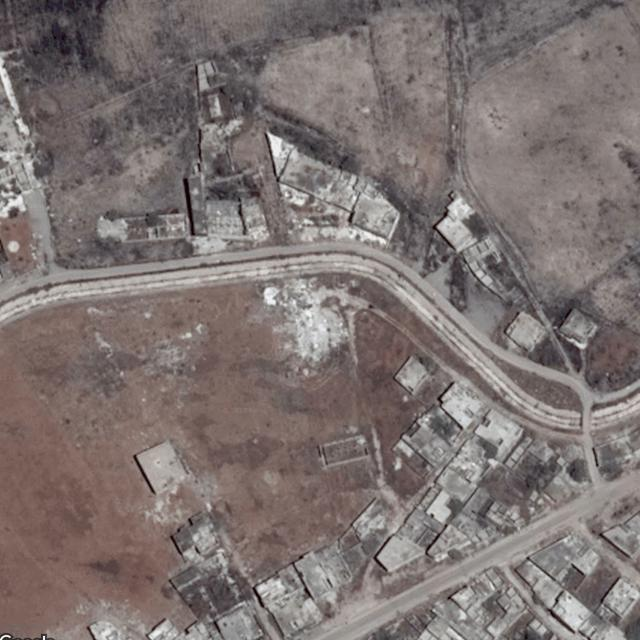damaged_building: (260, 279, 350, 362)
